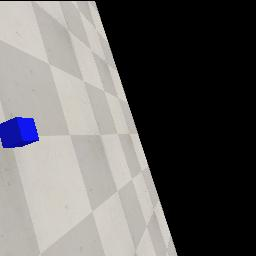box: (0, 117, 39, 148)
